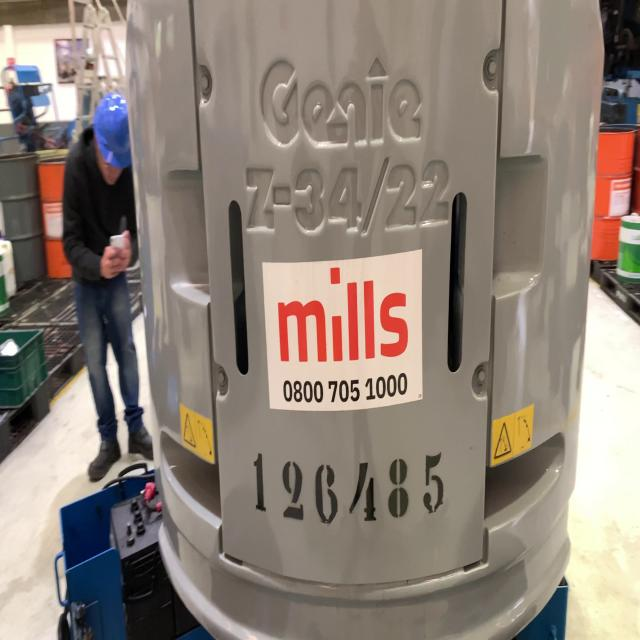Adesivos: (261, 245, 427, 416)
